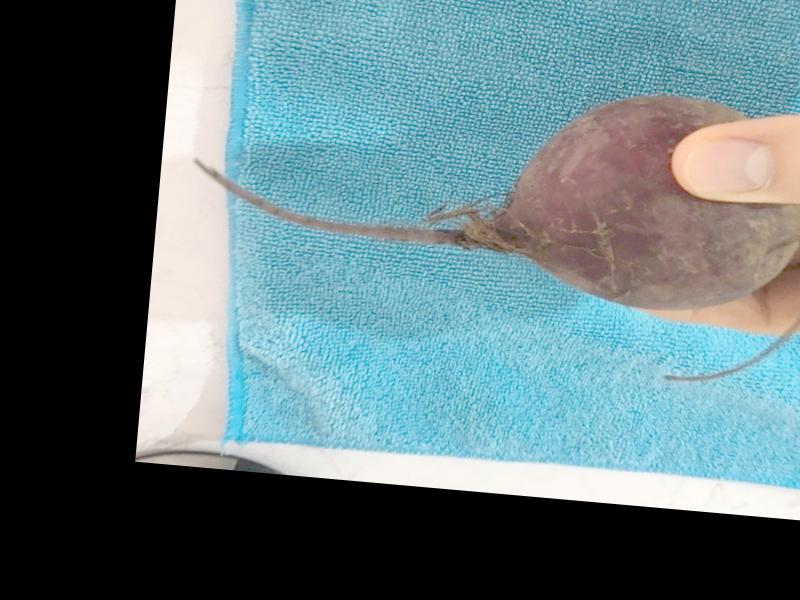Beet: (175, 53, 800, 393)
